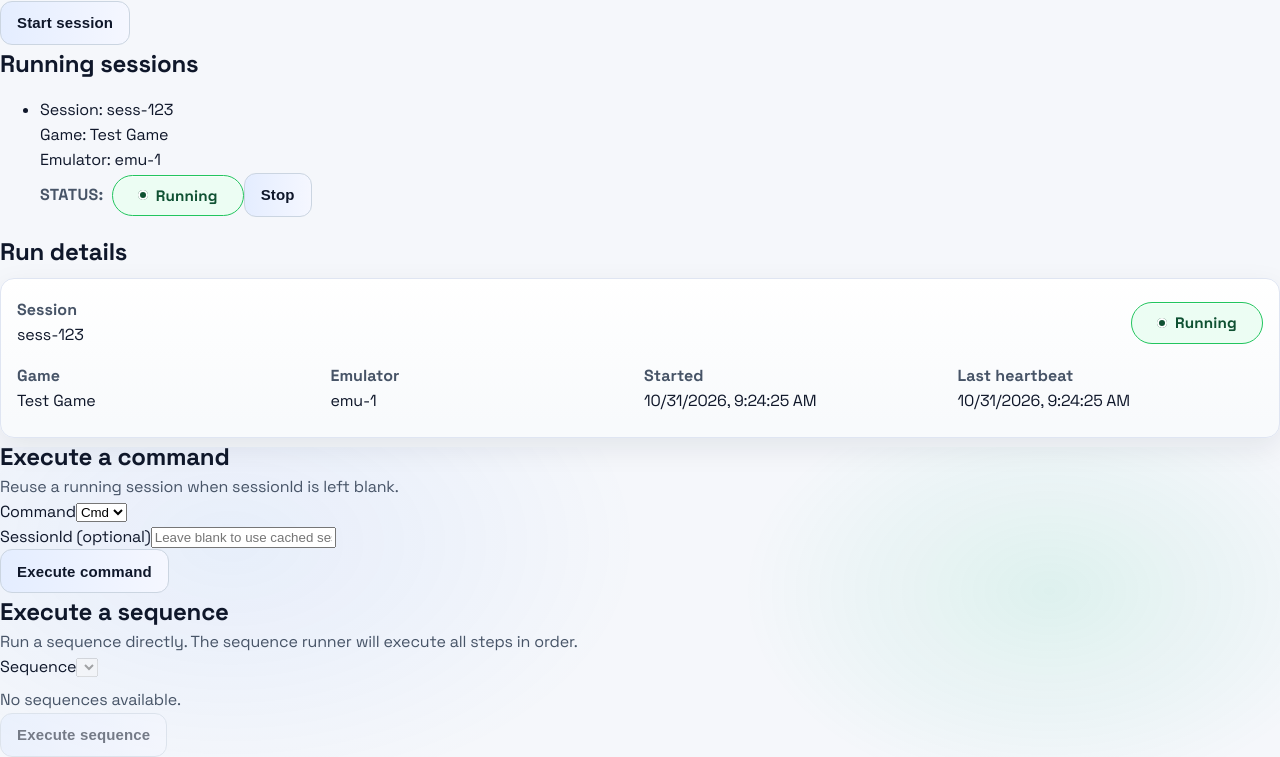
Test: ExecutionPage session reuse › shows an execution error when no tap was executed
(page scrolled)
Expected: the dropdown labelled "Command" shows "Cmd", [76,503,127,522]
Click the button "Execute command". click: (84, 571)
box: [0,549,169,593]
(page scrolled)
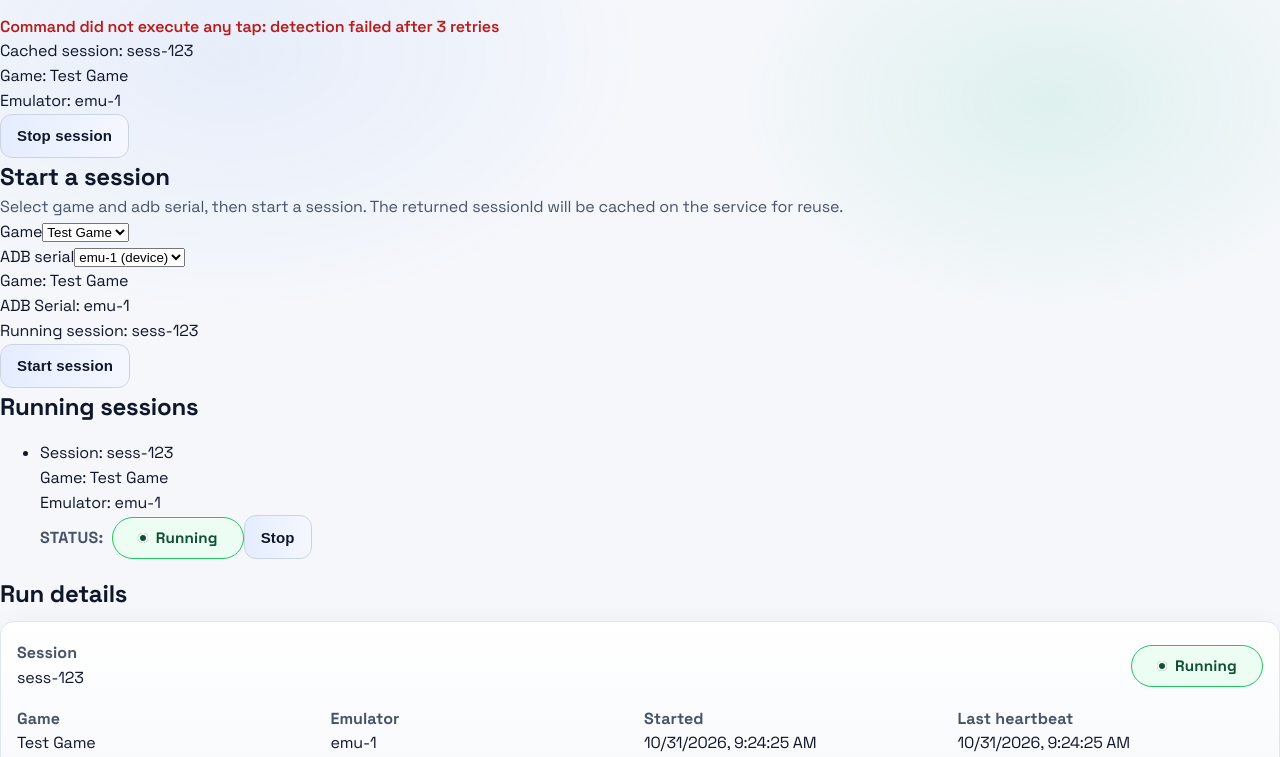
Now the message "Command did not execute any tap: detection failed after 3 retries" is shown, box [0,16,499,37]
